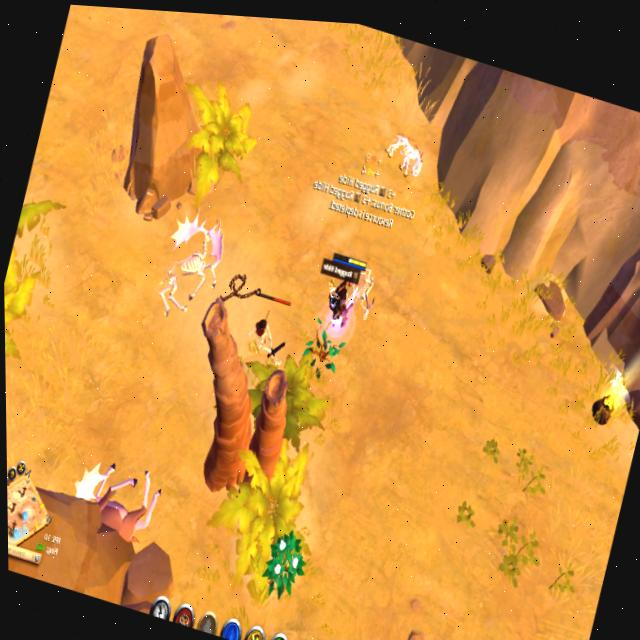hide: (254, 520, 313, 604)
mob: (78, 452, 171, 552)
ore: (236, 281, 299, 372)
red: (318, 248, 368, 331)
